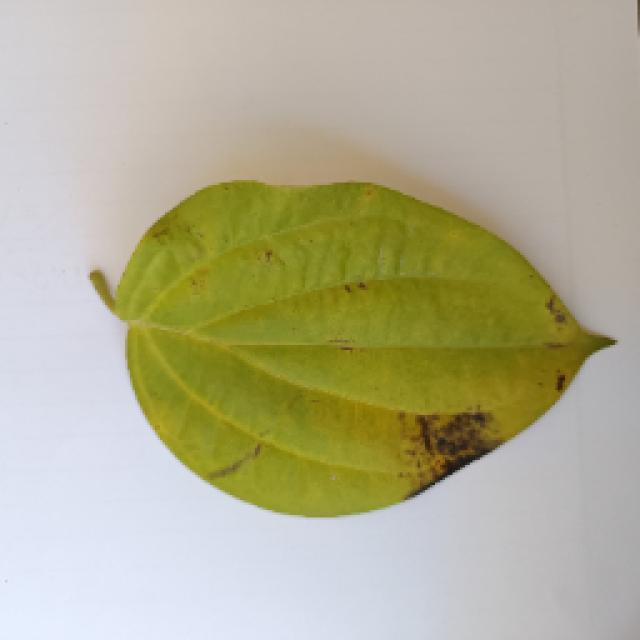slow-decline: (78, 172, 612, 520)
